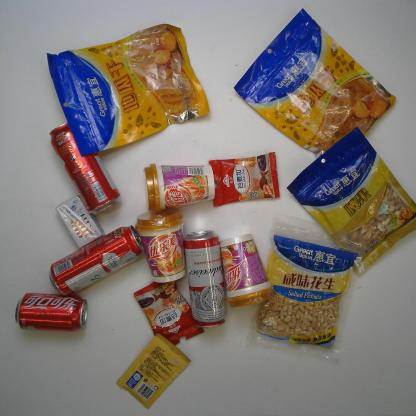Alcohol: (48, 120, 122, 216), (49, 224, 144, 297), (182, 229, 228, 328)
Dried Fruit: (231, 6, 398, 165), (45, 21, 210, 156), (285, 125, 415, 278), (244, 214, 370, 364)
Drink: (14, 291, 89, 334)
Instant Drink: (133, 280, 206, 346), (220, 231, 274, 308), (209, 151, 281, 207), (142, 160, 216, 213), (134, 209, 186, 284)
Milk: (53, 195, 106, 251)
Seasoner: (115, 333, 192, 411)
